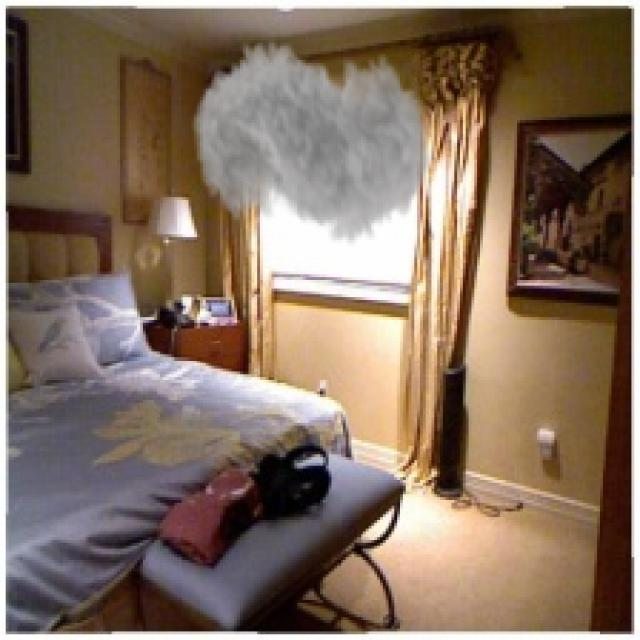smoke: (192, 14, 432, 263)
